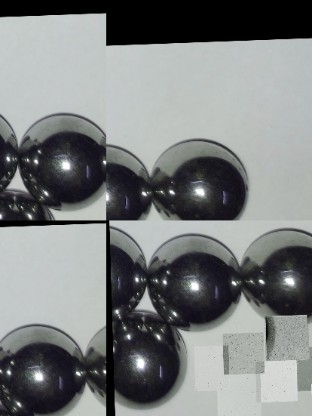ironball: (146, 229, 240, 329), (16, 107, 104, 213), (110, 306, 194, 409), (150, 135, 250, 221), (0, 319, 84, 414), (239, 223, 309, 318), (103, 228, 159, 318), (104, 141, 151, 219), (76, 313, 110, 410), (0, 105, 31, 194), (0, 185, 52, 225)
